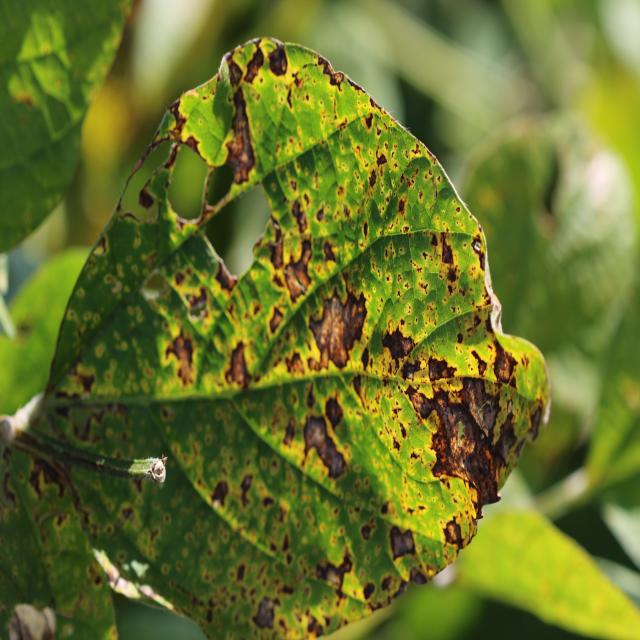Bacterial_Blight: (309, 284, 358, 368), (222, 88, 257, 186), (304, 415, 350, 470), (280, 235, 317, 300), (461, 376, 499, 436), (27, 452, 70, 502), (65, 402, 114, 443), (164, 325, 197, 385), (381, 326, 416, 365), (225, 341, 252, 391), (493, 420, 520, 467), (315, 558, 350, 590), (241, 40, 266, 84), (492, 340, 516, 384), (315, 52, 343, 88), (267, 223, 286, 271), (214, 259, 239, 295), (165, 96, 188, 135), (407, 387, 435, 419), (389, 526, 415, 559), (267, 41, 289, 79), (224, 49, 245, 88), (252, 596, 276, 629), (186, 288, 209, 321), (72, 368, 96, 395), (427, 356, 451, 383), (324, 396, 344, 428), (2, 468, 18, 506), (527, 404, 543, 441), (439, 233, 456, 267), (210, 479, 229, 509), (285, 350, 305, 376), (291, 198, 306, 231), (470, 348, 489, 374), (240, 474, 254, 506), (138, 185, 155, 211), (444, 521, 462, 545), (282, 417, 296, 447), (269, 306, 284, 333), (183, 135, 202, 155), (104, 274, 122, 295), (323, 239, 336, 264), (360, 520, 375, 541), (445, 263, 459, 285), (375, 149, 388, 169), (362, 581, 375, 600), (121, 506, 135, 522), (368, 166, 378, 188), (397, 196, 407, 217), (363, 112, 374, 131), (235, 563, 246, 581), (392, 436, 401, 453), (456, 332, 464, 344)
Soybean: (0, 37, 551, 640)
